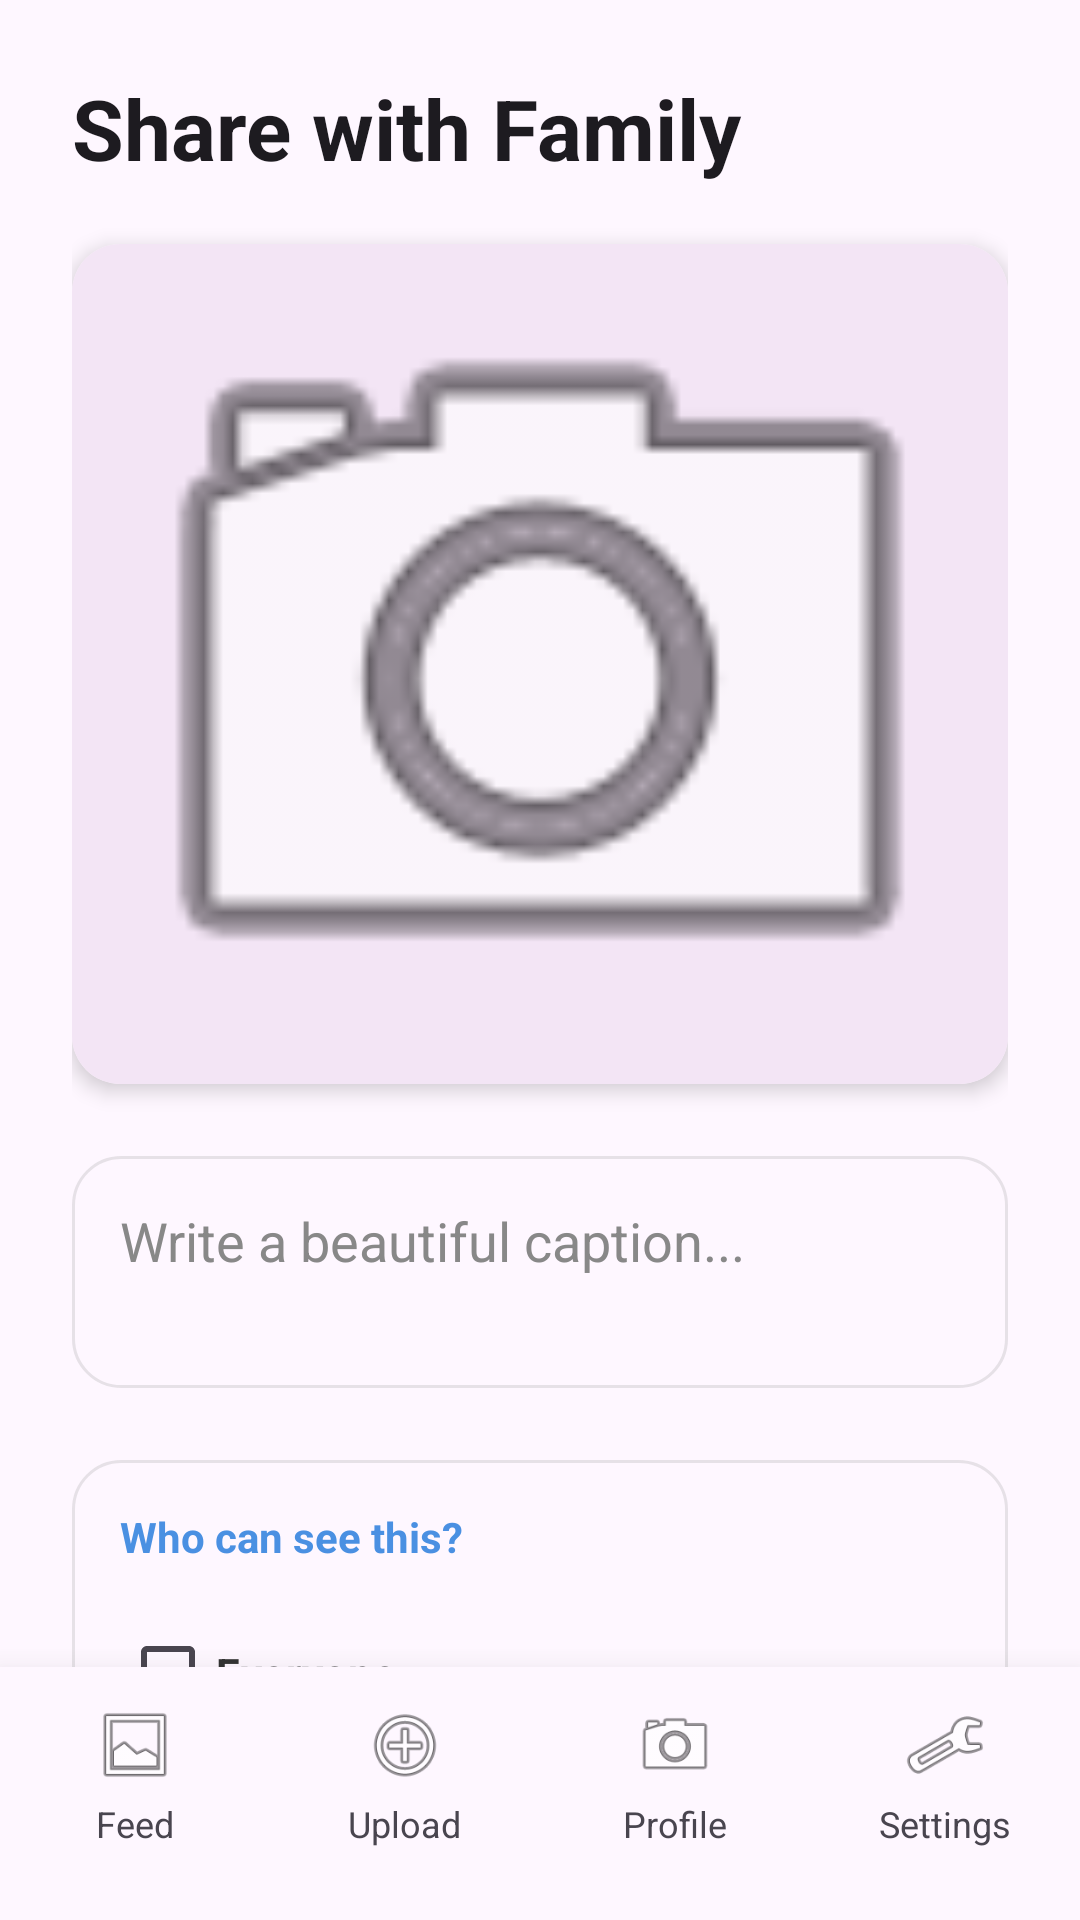

Screen size 1080w x 1920h. Icon name, then its center in pixels as [x,y]:
add: [405,1745]
gallery: [135,1745]
